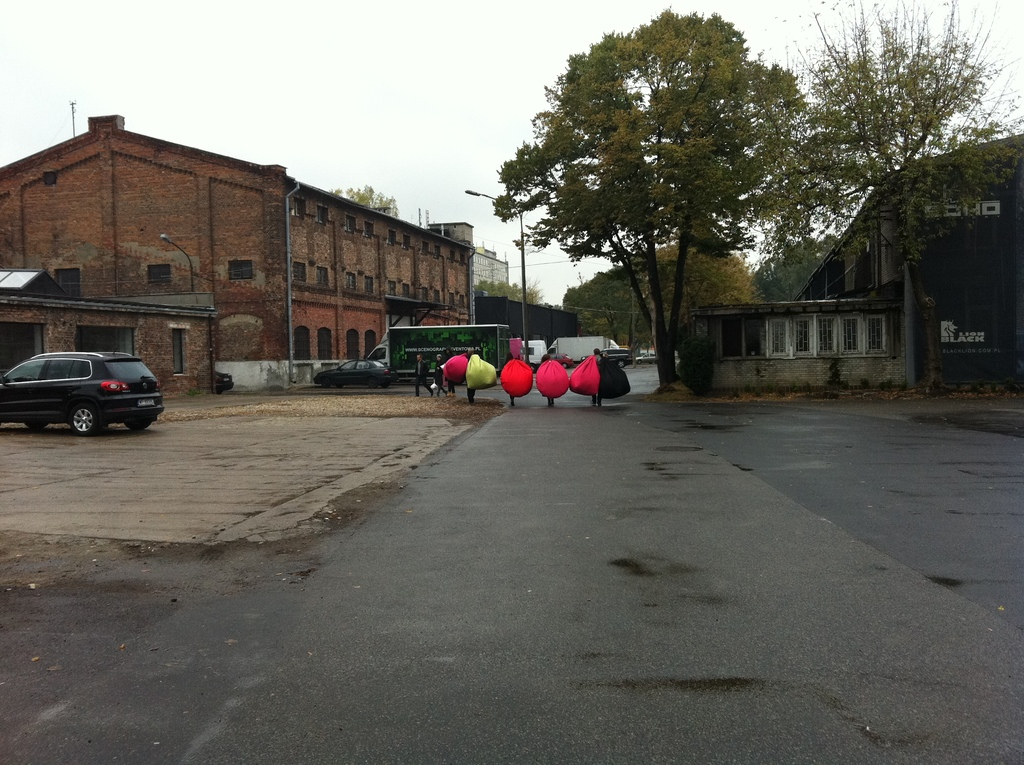cars: (0, 346, 158, 436), (313, 357, 386, 390)
